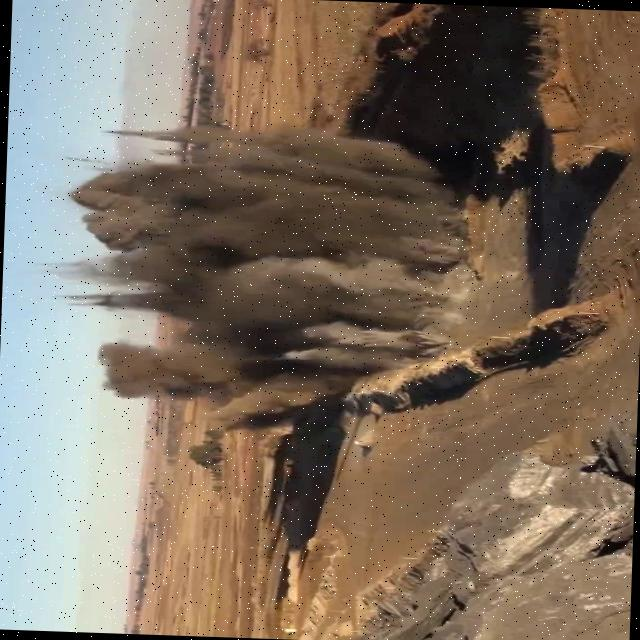explosion: (17, 92, 588, 514)
